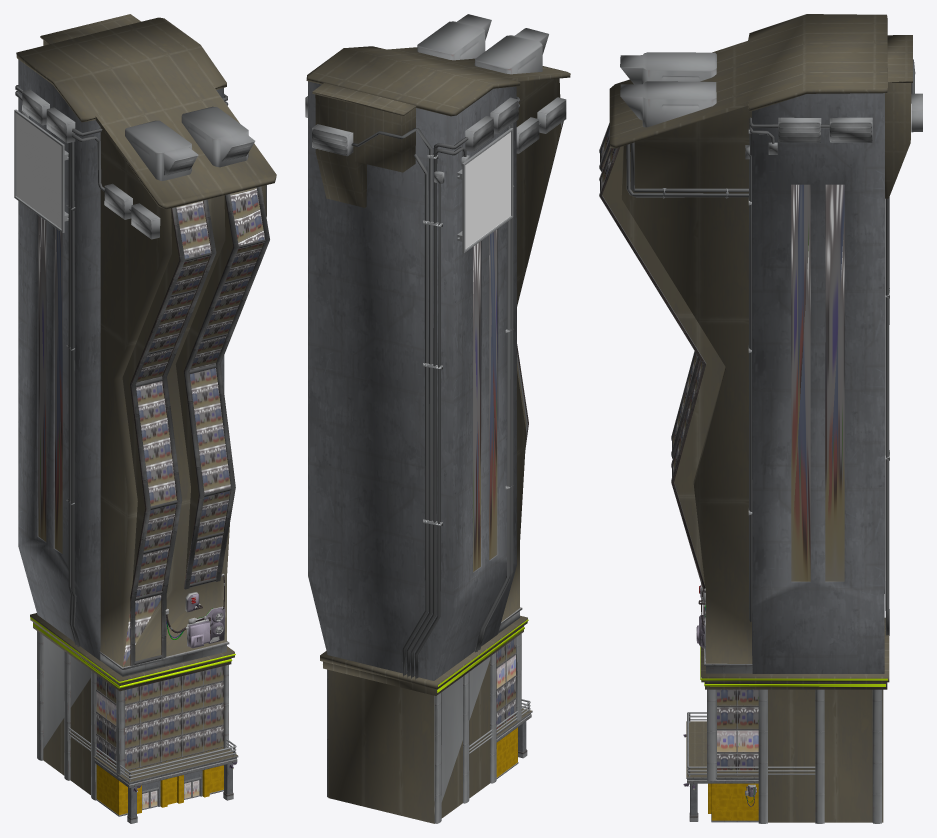
The model's file is Building3.gltf.
The picture shows the model from 3 angles, left to right: view 1: azimuth 30°, elevation 25°; view 2: azimuth 150°, elevation 25°; view 3: azimuth 270°, elevation 25°; orthographic projection. The views are drawn at different scales.
Parts seen in each view (by area): view 1: SM_Skyscraper_04, SM_Billboard_1x1, SM_Roof_AC_A_1, SM_Roof_AC_A, SM_GreebleBox_E, SM_Roof_Border, SM_GlassWall_24, SM_GlassWall_27, SM_GlassWall_28, SM_GlassWall_33, SM_GlassWall_29, SM_GlassWall_7 (+3 smaller); view 2: SM_Skyscraper_04, SM_Billboard_1x1, SM_Roof_AC_A, SM_Roof_AC_A_1; view 3: SM_Skyscraper_04, SM_Roof_AC_A_1, SM_Roof_AC_A, SM_Roof_Border, SM_Corner_3x3_01.
Boxes of the visible parts, x1,y1,x2,y2 form: SM_Skyscraper_04: (15,14,276,800); SM_Billboard_1x1: (14,109,68,232); SM_Roof_AC_A_1: (181,106,255,167); SM_Roof_AC_A: (125,120,198,180); SM_GreebleBox_E: (187,606,225,648); SM_Roof_Border: (68,727,236,780); SM_GlassWall_24: (140,696,161,723); SM_GlassWall_27: (182,686,203,713); SM_GlassWall_28: (182,708,203,735); SM_GlassWall_33: (140,718,161,745); SM_GlassWall_29: (182,730,203,757); SM_GlassWall_7: (140,741,161,767); SM_Skyscraper_04: (305,46,570,823); SM_Billboard_1x1: (457,128,513,253); SM_Roof_AC_A: (474,28,548,74); SM_Roof_AC_A_1: (417,14,491,60); SM_Skyscraper_04: (599,14,922,823); SM_Roof_AC_A_1: (620,81,716,127); SM_Roof_AC_A: (620,52,716,84); SM_Roof_Border: (687,712,815,776); SM_Corner_3x3_01: (711,799,737,820).
Size of the model in its own units: 22.79 by 96.43 by 38.05.
